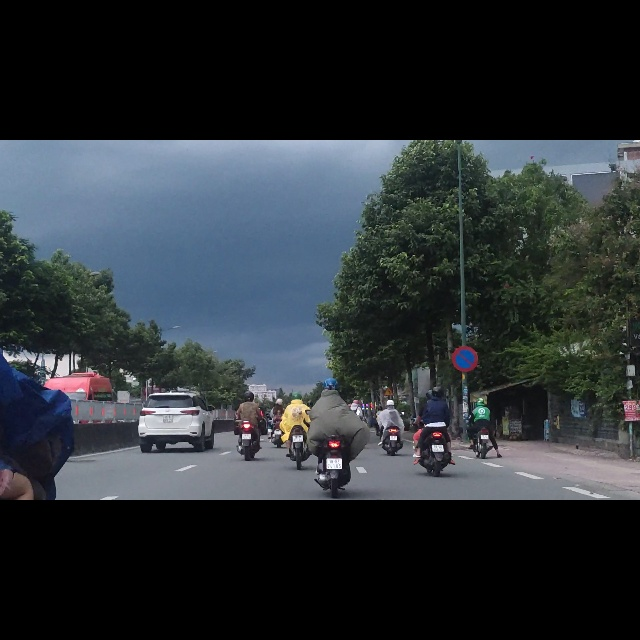bien_cam: (452, 365, 478, 414), (384, 439, 394, 455)
